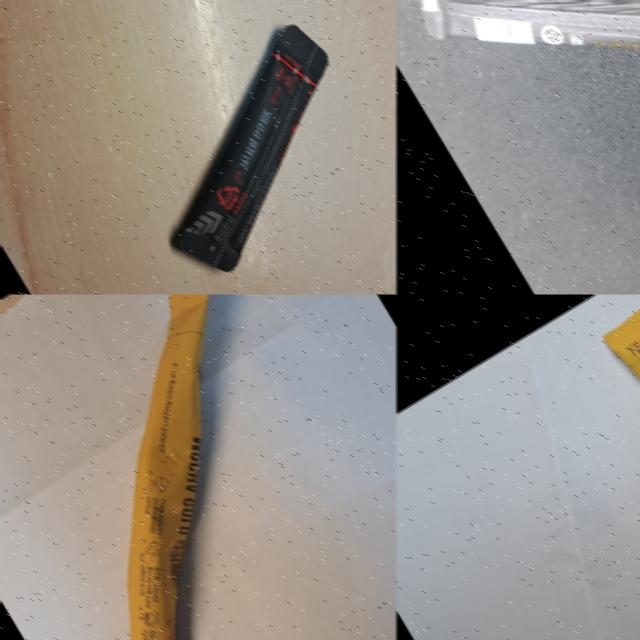KANU: (88, 0, 396, 294)
espresso_mini: (395, 0, 640, 255)
mix_coffee: (0, 294, 396, 640), (586, 294, 640, 640)
